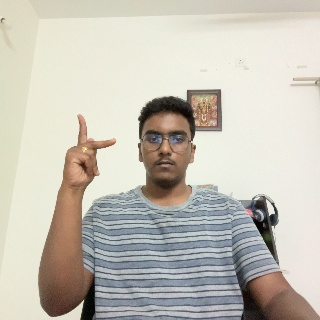Face: (137, 106, 193, 193)
Okay: (57, 112, 117, 207)
